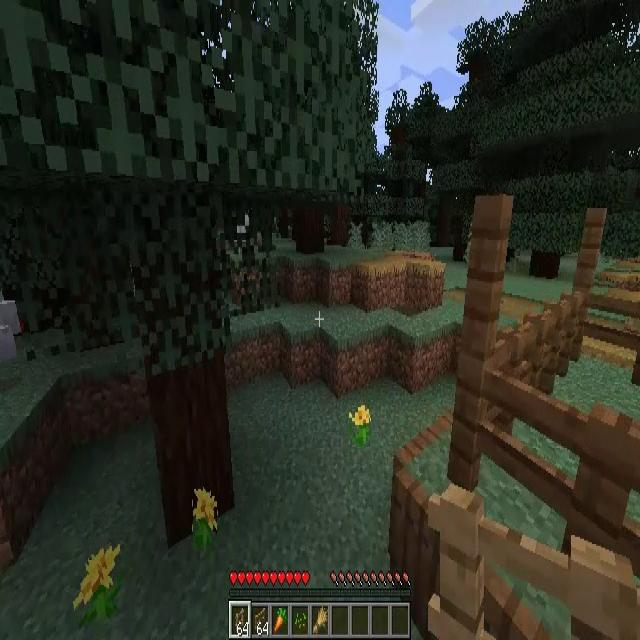flower: (74, 545, 122, 627), (193, 487, 217, 551), (352, 405, 370, 447)
